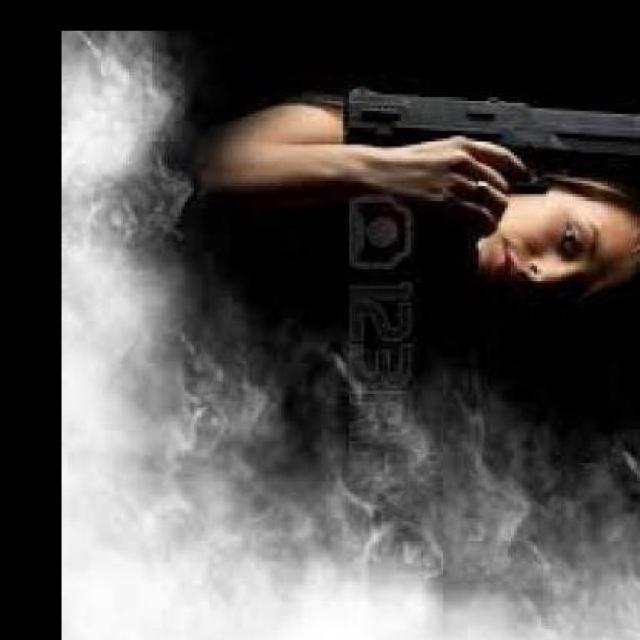weapon: (347, 85, 640, 191)
